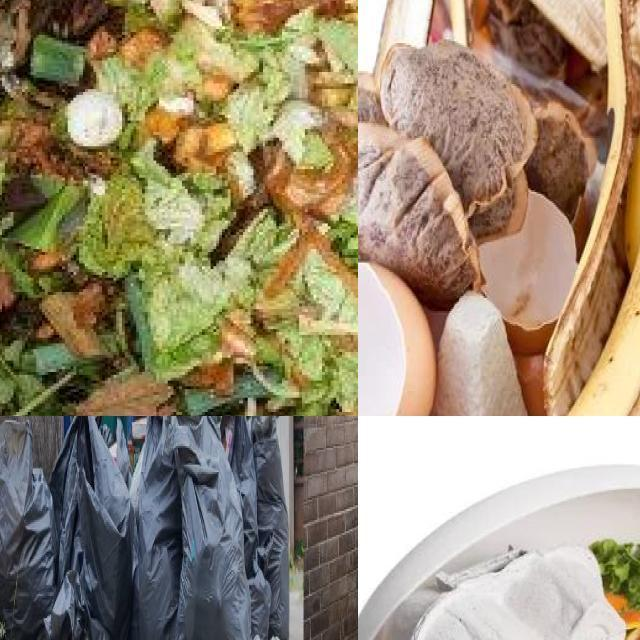Garbage: (358, 0, 640, 416), (0, 416, 289, 640), (358, 471, 640, 640)
Plastic_Bag: (45, 416, 135, 640), (175, 416, 252, 640), (0, 420, 58, 640), (130, 416, 182, 640), (220, 416, 270, 640), (252, 416, 289, 640)
contaminated_waste: (392, 544, 625, 640)
